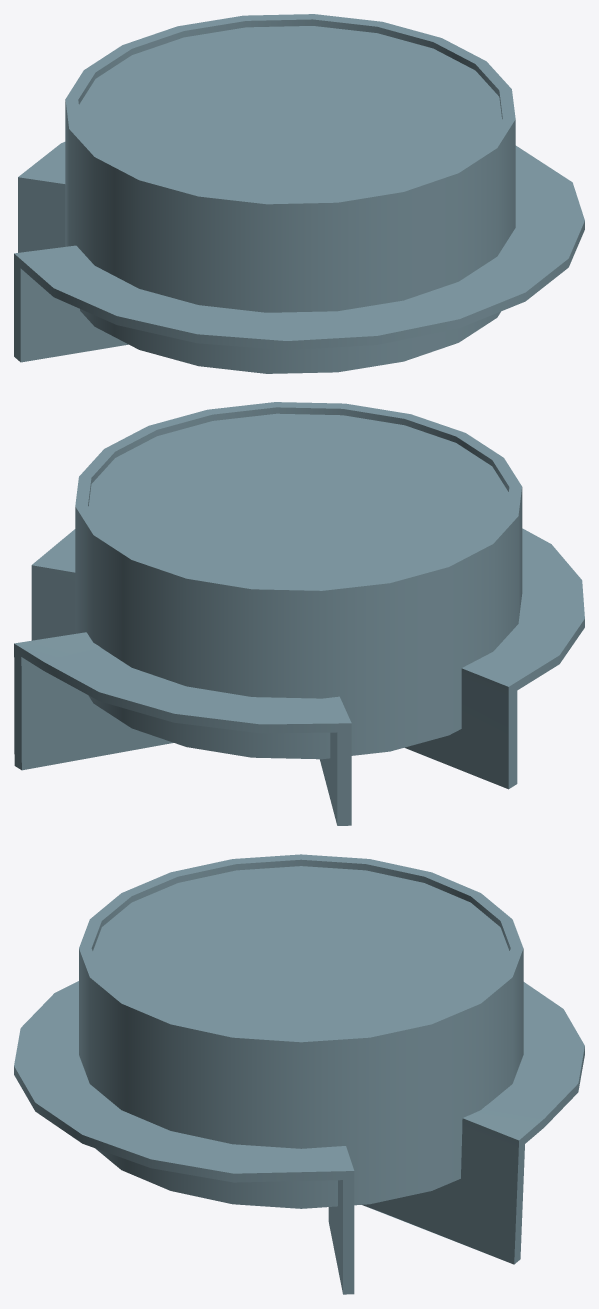
Rendered from LoadingDockLevel.fbx.
3 renders of one model, top to bottom at view 1: azimuth 30°, elevation 25°; view 2: azimuth 150°, elevation 25°; view 3: azimuth 270°, elevation 25°, orthographic.
Parts seen in each view (by area): view 1: SurroundingWall, Ceiling, Floors; view 2: SurroundingWall, Ceiling, Floors; view 3: SurroundingWall, Ceiling, Floors.
Part boxes in pixels (x1,y1,x2,y2): SurroundingWall: (65,14,515,373); Ceiling: (79,26,501,198); Floors: (14,142,584,362); SurroundingWall: (75,402,522,759); Ceiling: (88,413,508,585); Floors: (14,528,584,825); SurroundingWall: (79,854,523,1208); Ceiling: (93,866,509,1036); Floors: (14,981,584,1294).
Bounding box in the file's own units: 5487 × 2480 × 5552.
